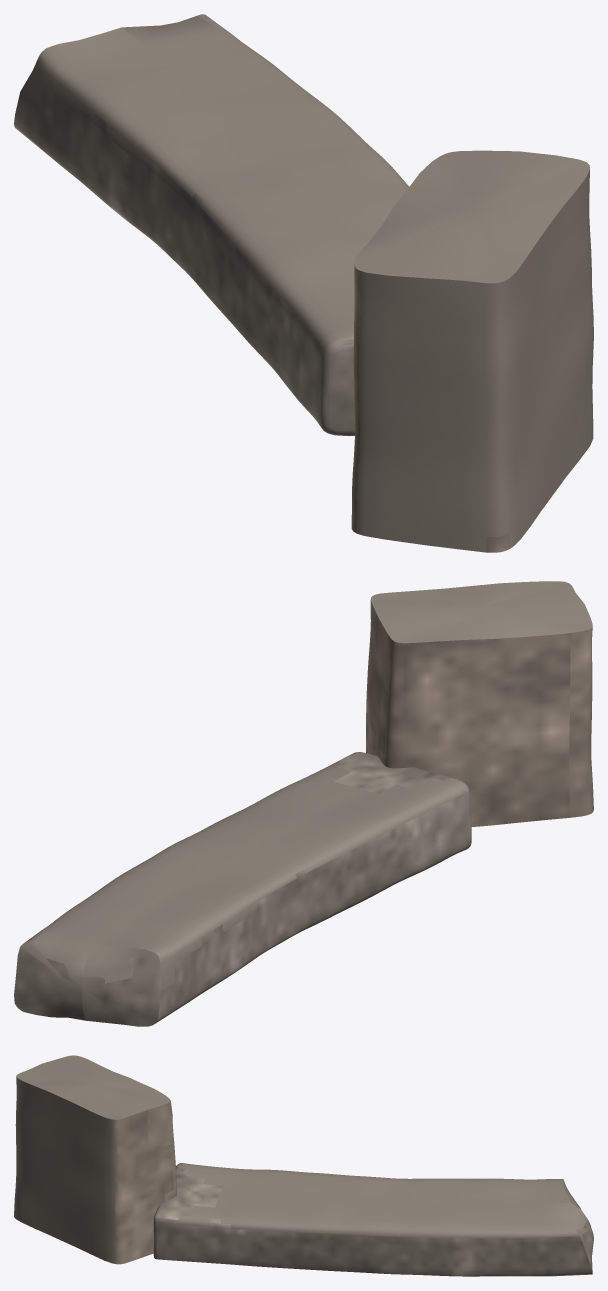
File: VerHenge05b.glb
3 views of the same model, one above another, from view 1: azimuth 30°, elevation 25°; view 2: azimuth 150°, elevation 25°; view 3: azimuth 270°, elevation 25° (orthographic). The views are drawn at different scales.
Visible parts, largest first — view 1: VerHenge05b; view 2: VerHenge05b; view 3: VerHenge05b.
Part boxes in pixels (<box>): VerHenge05b: <box>14,14,593,552</box>; VerHenge05b: <box>14,581,593,1026</box>; VerHenge05b: <box>14,1055,593,1276</box>.
Bounding box in the file's own units: 1.94 × 1.52 × 5.54.
2 materials, 1 textured.
